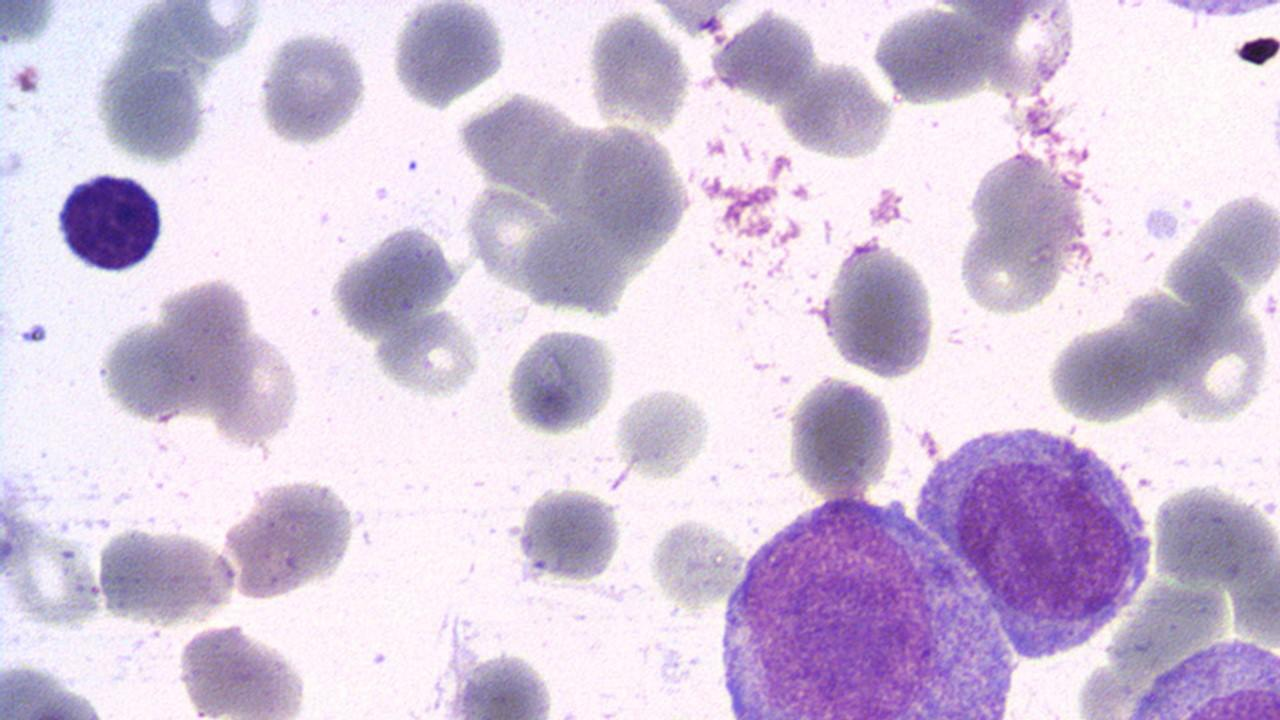Platelets: (1, 147, 27, 182), (17, 320, 51, 346), (372, 184, 389, 203), (406, 157, 418, 172)
RBC: (213, 471, 366, 603), (823, 236, 946, 382), (324, 222, 461, 340), (95, 520, 237, 630), (788, 371, 900, 501), (388, 0, 512, 112), (506, 318, 622, 437), (255, 27, 368, 147), (584, 7, 690, 132), (868, 4, 996, 107), (172, 624, 314, 716), (97, 58, 211, 168), (1045, 320, 1163, 424), (206, 325, 302, 447), (514, 483, 626, 586), (954, 221, 1065, 317), (647, 512, 747, 611), (373, 308, 483, 398), (613, 382, 714, 480)
WBC: (710, 482, 1029, 714), (914, 412, 1158, 658), (52, 167, 172, 276)
